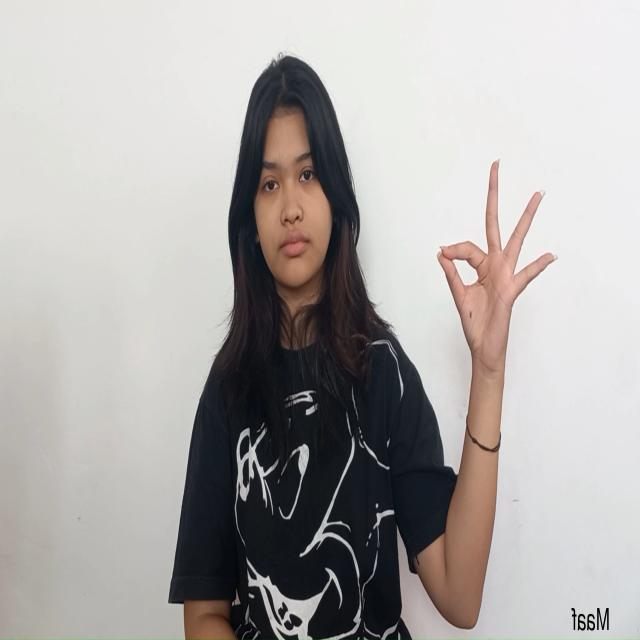Maaf -BISINDO-: (436, 153, 562, 385)
